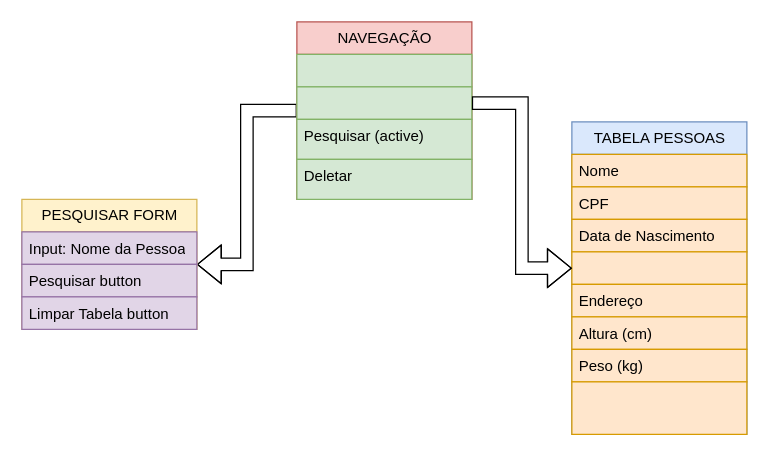
This 769x460 diagram has some shape labels left out. The shapes that lost their labels are listed below. From the top down, each one's centre as x and y in pixels, then its label:
the point at 384,70: Cadastro
the point at 384,102: Alterar
the point at 659,267: Telefone
the point at 659,407: Ação (e.g., Editar, Excluir)
